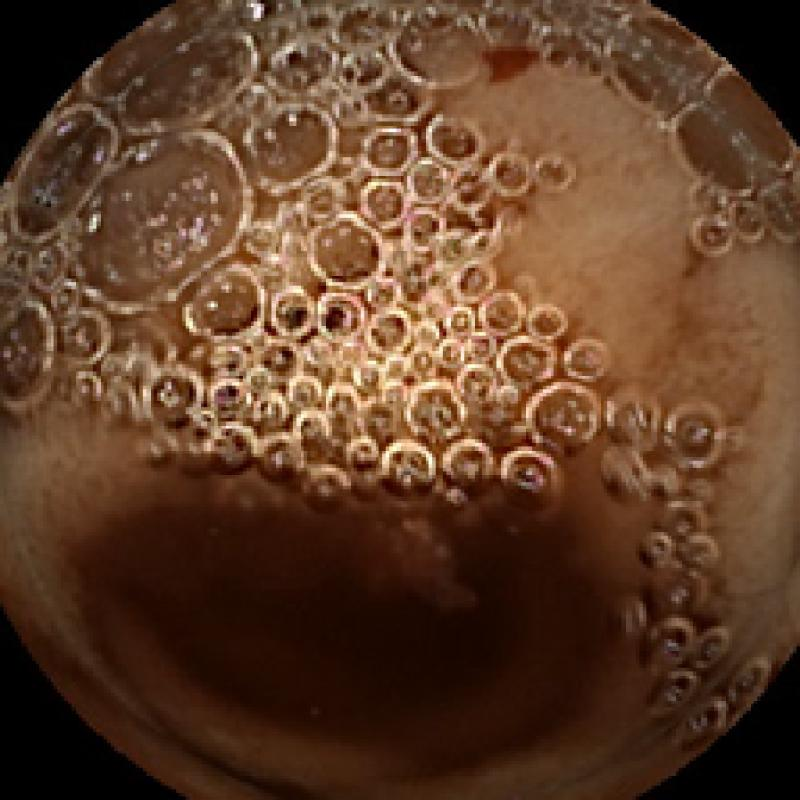bleeding: (468, 36, 550, 86)
